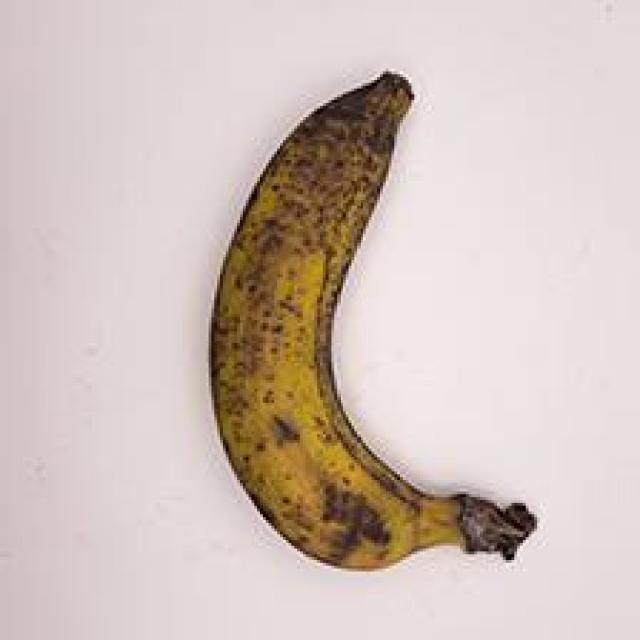Overripe: (164, 41, 571, 593)
